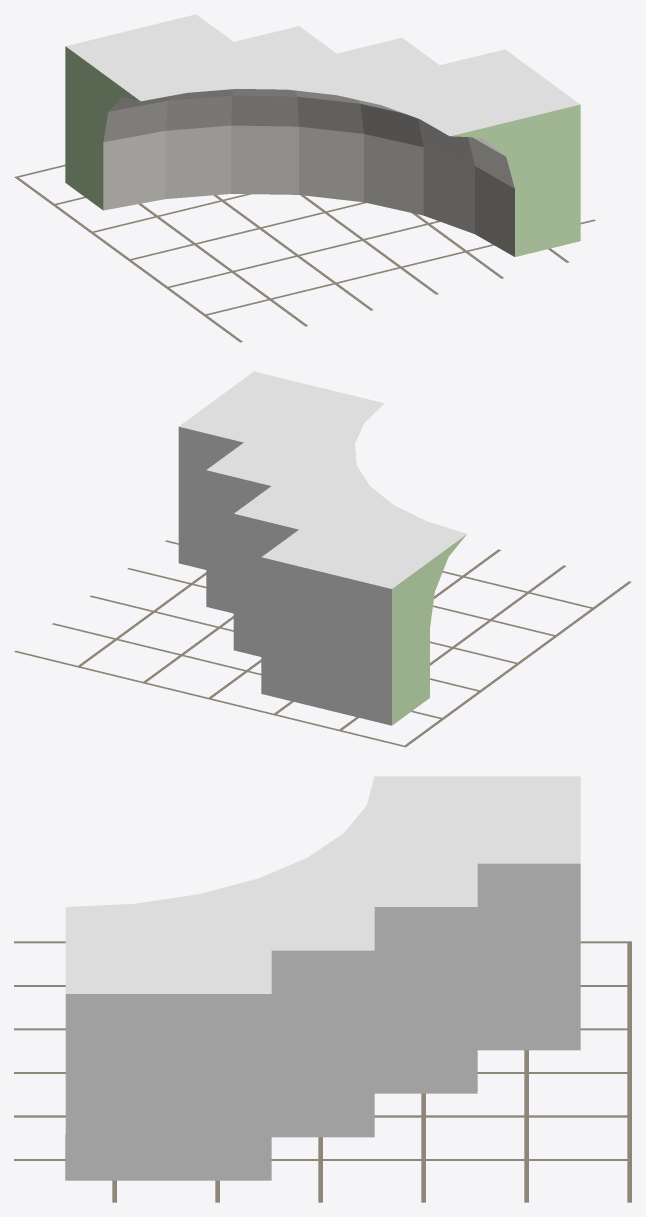
File: Wall_Curve_Inner_5x5_Top.glb
The picture shows the model from 3 angles, top to bottom: view 1: azimuth 30°, elevation 25°; view 2: azimuth 150°, elevation 25°; view 3: azimuth 270°, elevation 25°; orthographic projection. The views are drawn at different scales.
Parts seen in each view (by area): view 1: Wall_Curve_Inner_5x5_Top, Floor; view 2: Wall_Curve_Inner_5x5_Top, Floor; view 3: Wall_Curve_Inner_5x5_Top, Floor.
Boxes of the visible parts, <box> form: Wall_Curve_Inner_5x5_Top: <box>65,14,580,256</box>; Floor: <box>14,164,595,342</box>; Wall_Curve_Inner_5x5_Top: <box>178,371,466,725</box>; Floor: <box>14,540,631,747</box>; Wall_Curve_Inner_5x5_Top: <box>65,776,580,1180</box>; Floor: <box>14,941,631,1202</box>.
Bounding box in the file's own units: 600 × 200 × 600.
5 materials, 1 textured.
